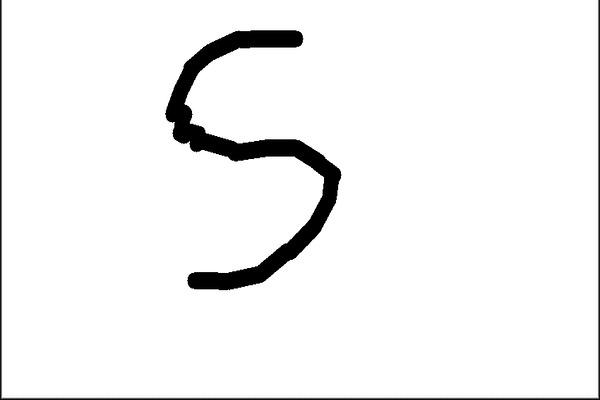S: (162, 25, 344, 293)
